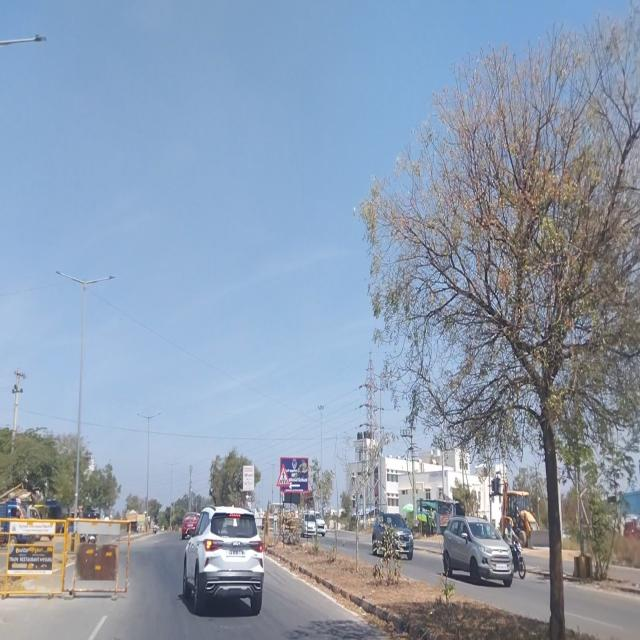bien_cam: (276, 464, 290, 487)
